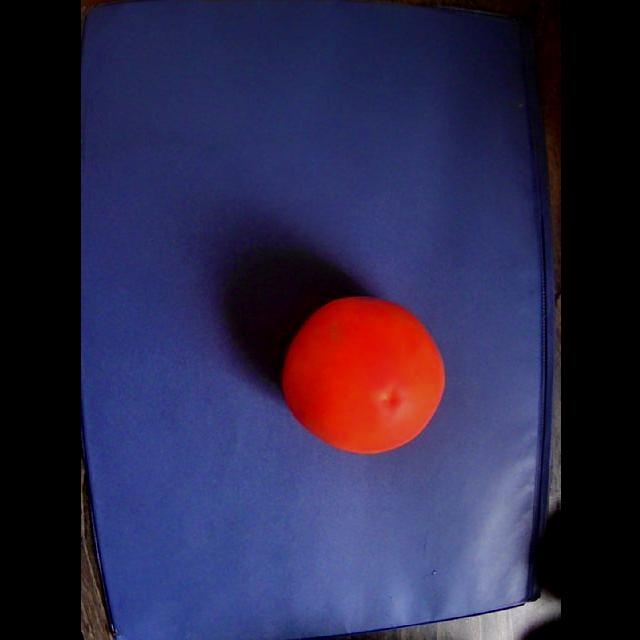tomate: (282, 297, 444, 454)
